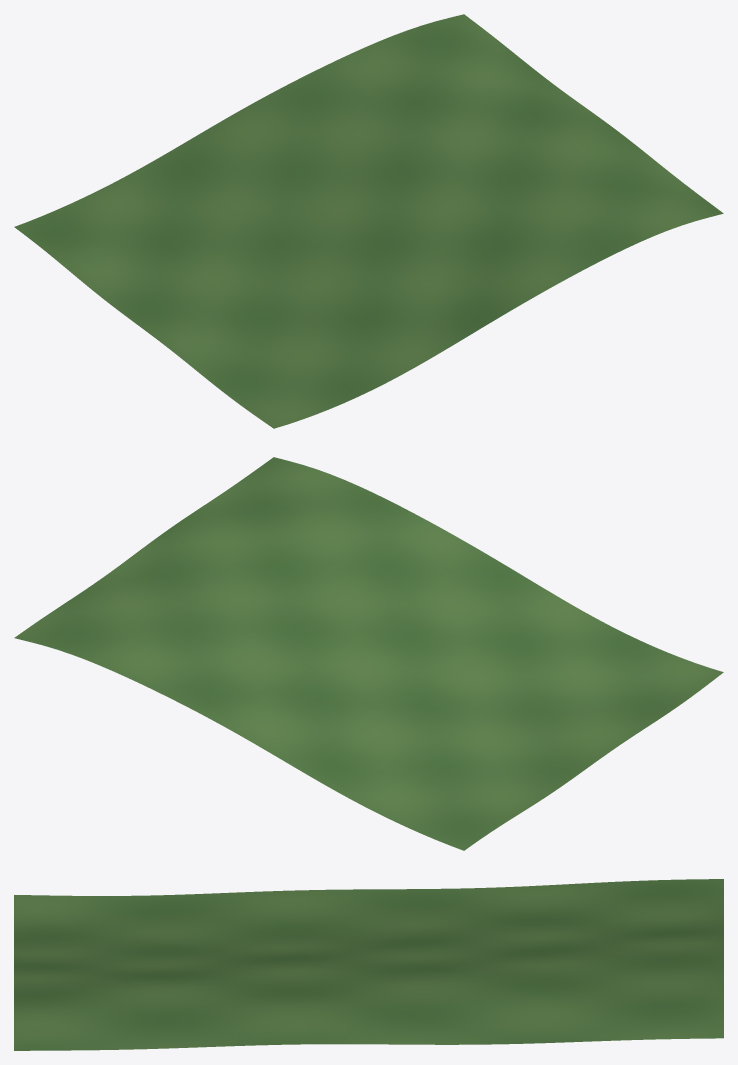
File: chunk_12_4.glb
The picture shows the model from 3 angles, top to bottom: view 1: azimuth 30°, elevation 25°; view 2: azimuth 150°, elevation 25°; view 3: azimuth 270°, elevation 25°; orthographic projection. The views are drawn at different scales.
Bounding box in the file's own units: 512 × 125 × 512.
